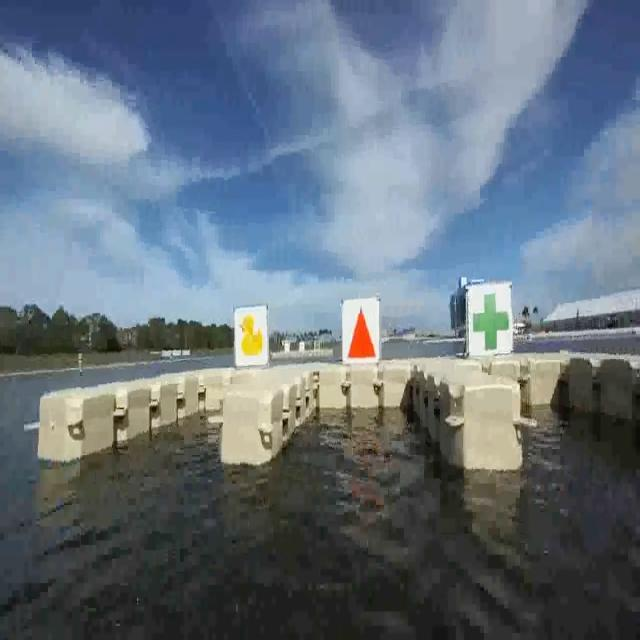blue-cross: (469, 294, 513, 358)
red-dot: (343, 302, 383, 373)
yellow-duck: (240, 310, 264, 357)
